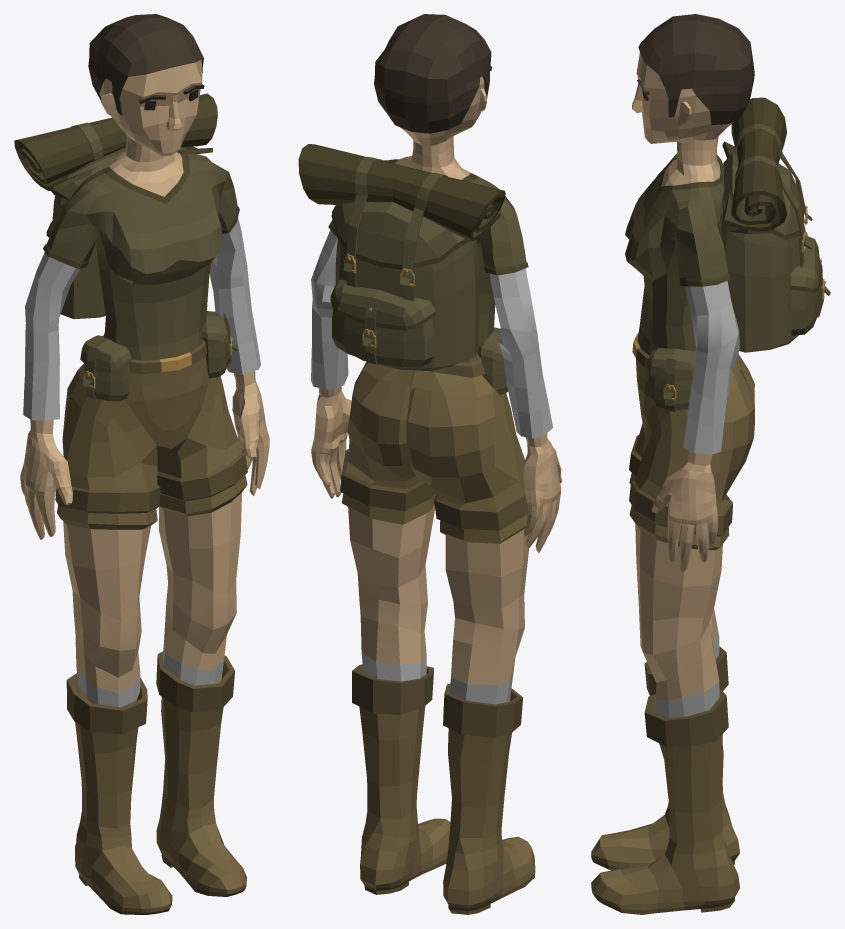
Rendered from adventurer.glb.
The picture shows the model from 3 angles, left to right: view 1: azimuth 30°, elevation 25°; view 2: azimuth 150°, elevation 25°; view 3: azimuth 270°, elevation 25°; orthographic projection.
Visible parts, largest first — view 1: Adventurer_Body, Adventurer_Legs, Adventurer_Feet, Adventurer_Head; view 2: Adventurer_Body, Adventurer_Legs, Adventurer_Feet, Adventurer_Head; view 3: Adventurer_Body, Adventurer_Legs, Adventurer_Feet, Adventurer_Head.
Boxes of the visible parts, <box> form: Adventurer_Body: <box>14,93,269,539</box>; Adventurer_Legs: <box>55,311,247,707</box>; Adventurer_Feet: <box>66,651,246,914</box>; Adventurer_Head: <box>88,14,204,162</box>; Adventurer_Body: <box>298,144,562,552</box>; Adventurer_Legs: <box>340,327,528,704</box>; Adventurer_Feet: <box>352,664,535,914</box>; Adventurer_Head: <box>374,14,492,167</box>; Adventurer_Body: <box>625,97,830,571</box>; Adventurer_Legs: <box>629,348,754,717</box>; Adventurer_Feet: <box>591,646,739,914</box>; Adventurer_Head: <box>632,14,754,165</box>.
Size of the model in its own units: 0.5208 by 1.82 by 0.4581.
